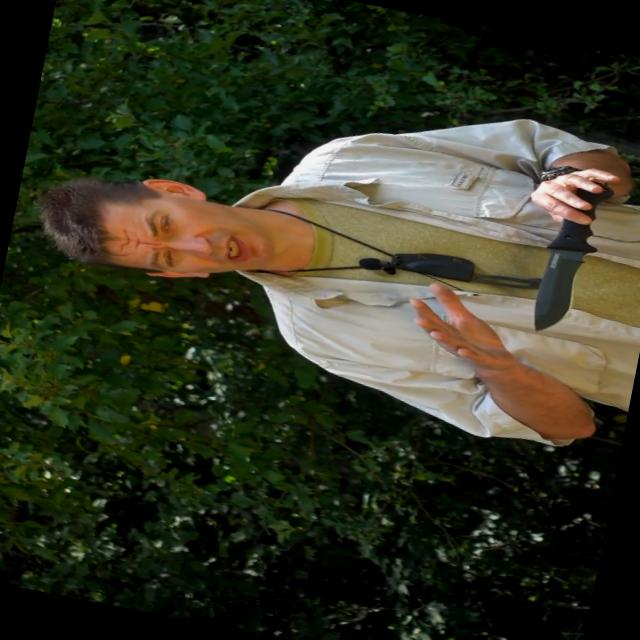knife: (503, 154, 632, 346)
